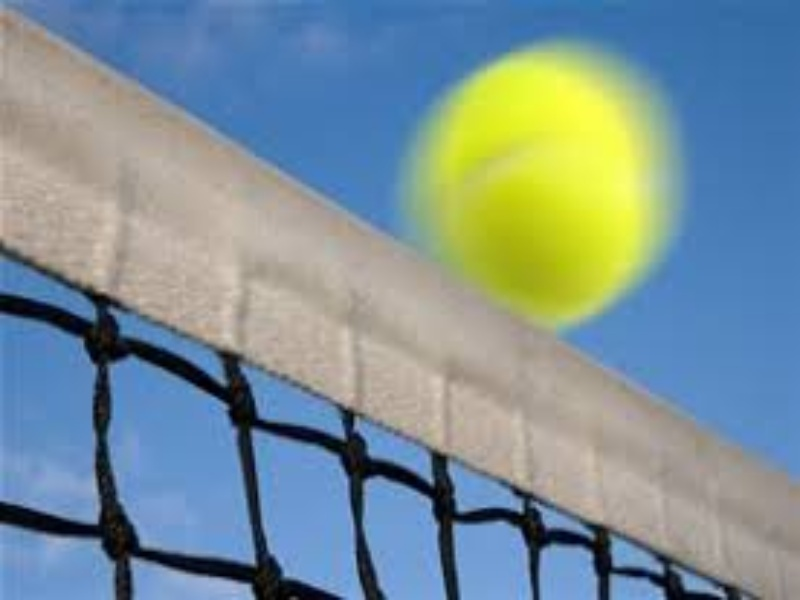tennis ball: (394, 36, 692, 352)
